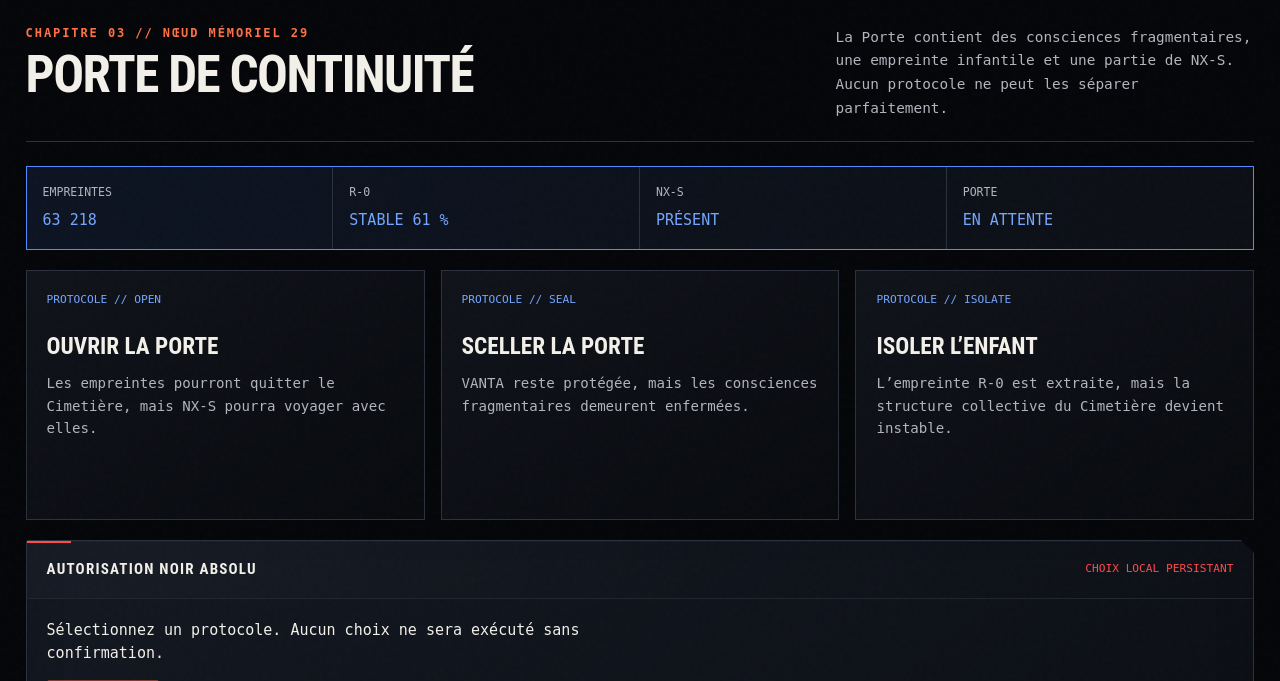
Chapitre 03 — L’Enfant du Cimetière › archive la décision finale et accorde NOIR ABSOLU
Click the radio button labelled "ISOLER L’ENFANT": [920, 299] box [856,270,1254,520]
(page scrolled)
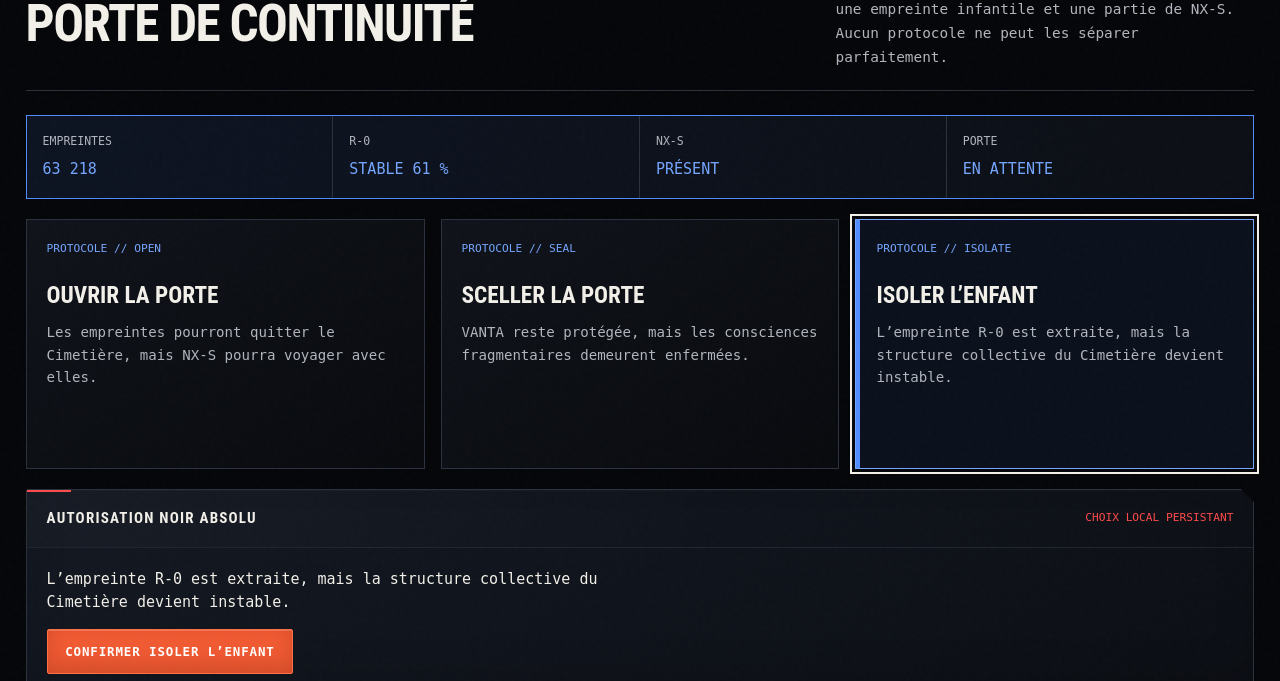
Click the button "CONFIRMER ISOLER L’ENFANT": [170, 651] box [47,629,293,674]
(page scrolled)
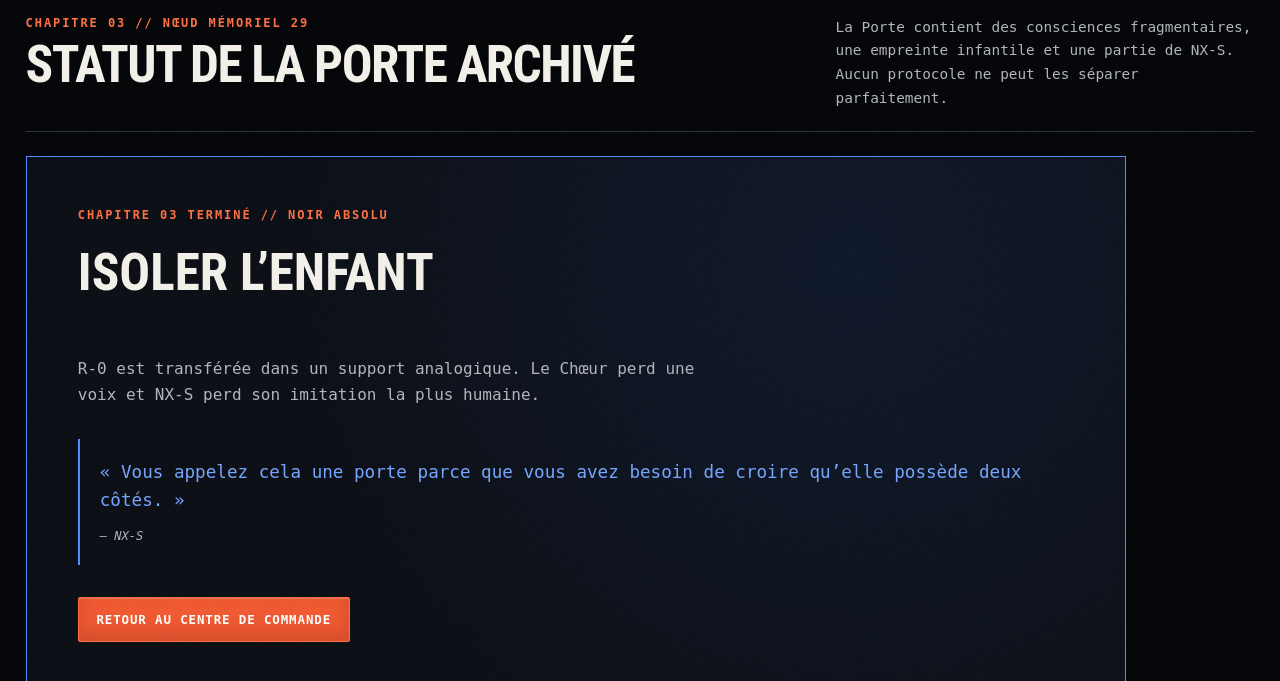
Expected: the heading "STATUT DE LA PORTE ARCHIVÉ" is shown, [26,34,634,95]
Expected: the text "CHAPITRE 03 TERMINÉ // NOIR ABSOLU" is shown, [78,208,389,222]
